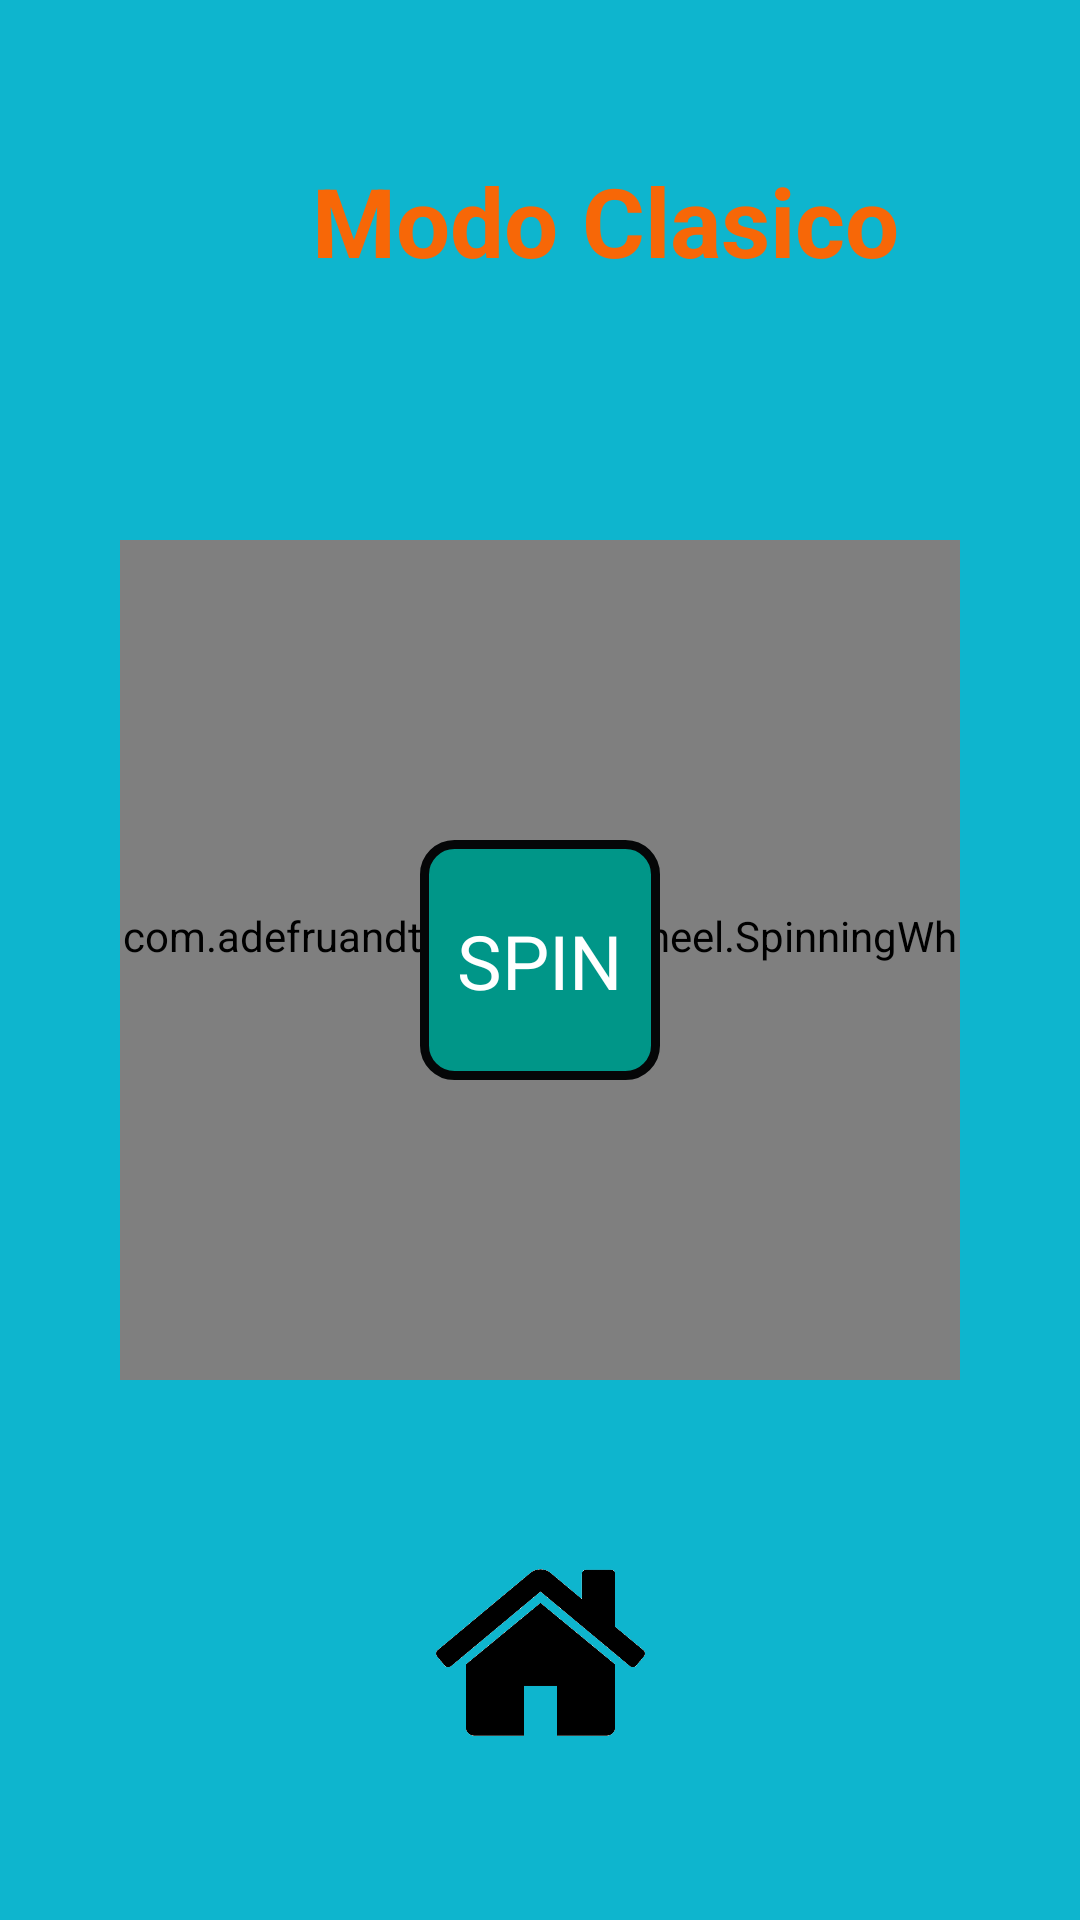

Screen size 1080x1920. Icon name, then its center in pixels as point (x, y):
home: point (540, 1652)
